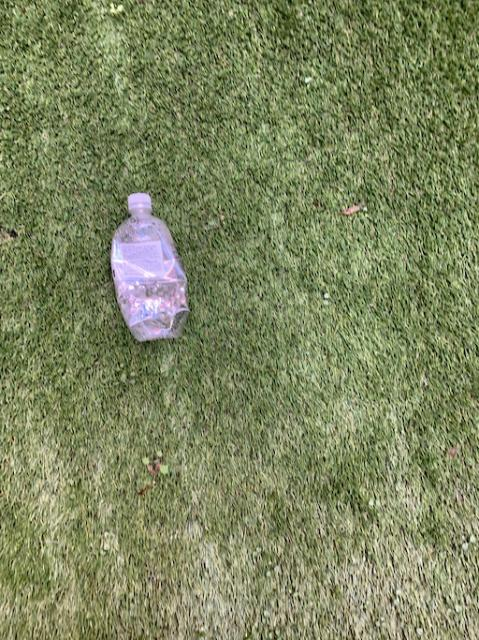plastic: (111, 192, 187, 339)
